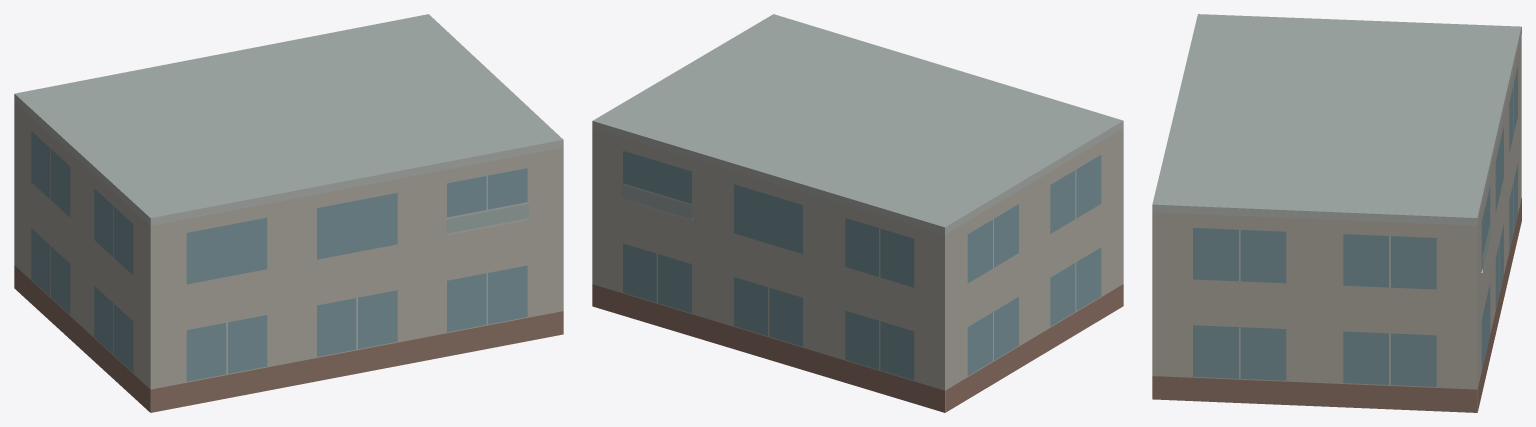
Rendered from survey-upis-32459301.glb.
3 views of the same model, side by side, from view 1: azimuth 30°, elevation 25°; view 2: azimuth 150°, elevation 25°; view 3: azimuth 270°, elevation 25° (orthographic). The views are drawn at different scales.
Visible parts, largest first — view 1: survey-upis-32459301.tmp; view 2: survey-upis-32459301.tmp; view 3: survey-upis-32459301.tmp.
Part boxes in pixels (box(x1,y1,x2,y2)): survey-upis-32459301.tmp: box(14, 14, 563, 412); survey-upis-32459301.tmp: box(592, 14, 1123, 412); survey-upis-32459301.tmp: box(1152, 14, 1521, 412).
Size of the model in its own units: 13.71 by 6.1 by 10.49.
